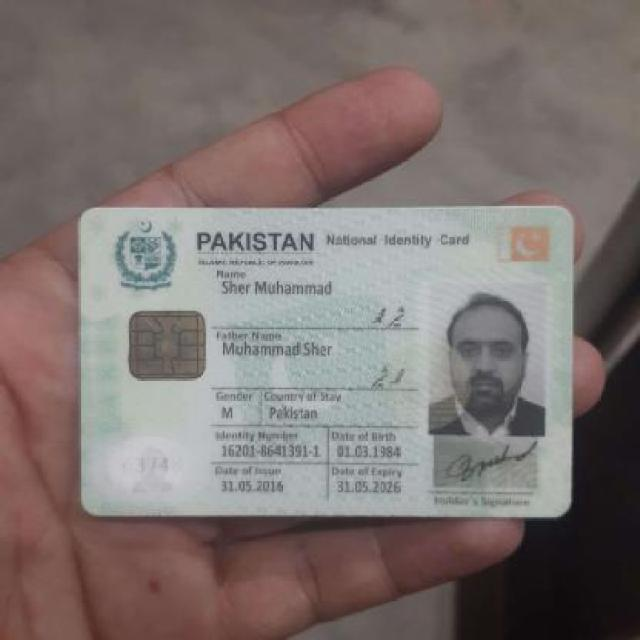Front: (76, 198, 578, 524)
